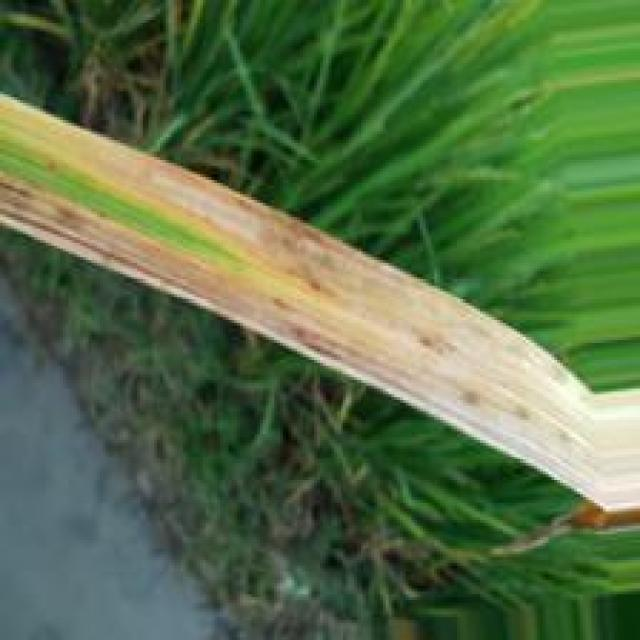Rice False Smut: (1, 117, 638, 509)
